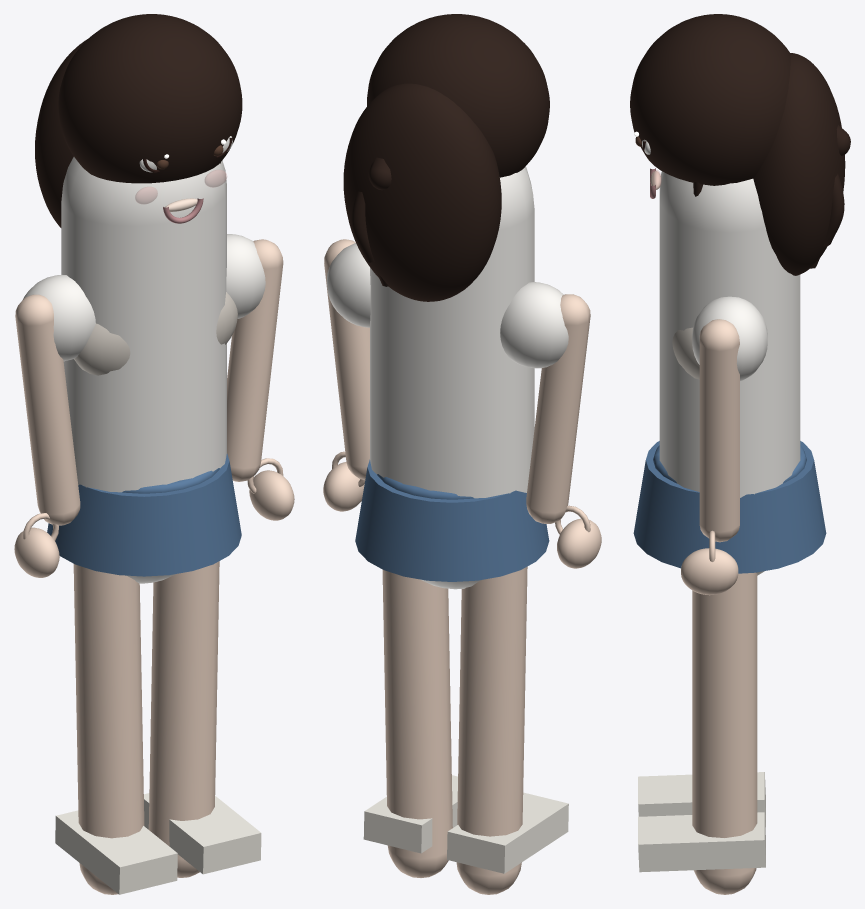
The model's file is junior_2005_hero_closeup.glb.
The picture shows the model from 3 angles, left to right: view 1: azimuth 30°, elevation 25°; view 2: azimuth 150°, elevation 25°; view 3: azimuth 270°, elevation 25°; orthographic projection.
Visible parts, largest first — view 1: neck, torso_main, hair_cap, shorts_hip, shoe_l, torso_chest, shorts_waistband, cheek_blush_l, lip_arc; view 2: neck, hair_cap, torso_main, shorts_hip, shoe_l, shorts_waistband; view 3: hair_cap, torso_main, neck, shorts_hip, shoe_l, torso_chest, shorts_waistband.
Boxes of the visible parts, x1=… form: neck: x1=14, y1=239, x2=294, y2=894; torso_main: x1=23, y1=157, x2=265, y2=583; hair_cap: x1=35, y1=14, x2=242, y2=227; shorts_hip: x1=47, y1=453, x2=241, y2=576; shoe_l: x1=55, y1=793, x2=261, y2=894; torso_chest: x1=74, y1=292, x2=237, y2=375; shorts_waistband: x1=122, y1=468, x2=219, y2=493; cheek_blush_l: x1=135, y1=170, x2=226, y2=204; lip_arc: x1=139, y1=136, x2=232, y2=223; neck: x1=323, y1=239, x2=601, y2=894; hair_cap: x1=343, y1=14, x2=549, y2=301; torso_main: x1=326, y1=166, x2=568, y2=589; shorts_hip: x1=355, y1=459, x2=549, y2=581; shoe_l: x1=363, y1=775, x2=568, y2=873; shorts_waistband: x1=377, y1=474, x2=473, y2=499; hair_cap: x1=630, y1=14, x2=850, y2=275; torso_main: x1=659, y1=171, x2=800, y2=575; neck: x1=681, y1=319, x2=757, y2=894; shorts_hip: x1=633, y1=441, x2=826, y2=573; shoe_l: x1=638, y1=772, x2=765, y2=872; torso_chest: x1=672, y1=327, x2=699, y2=379; shorts_waistband: x1=653, y1=445, x2=806, y2=483.
Size of the model in its own units: 0.6048 by 1.85 by 0.4355.
16 materials, 16 textured.
